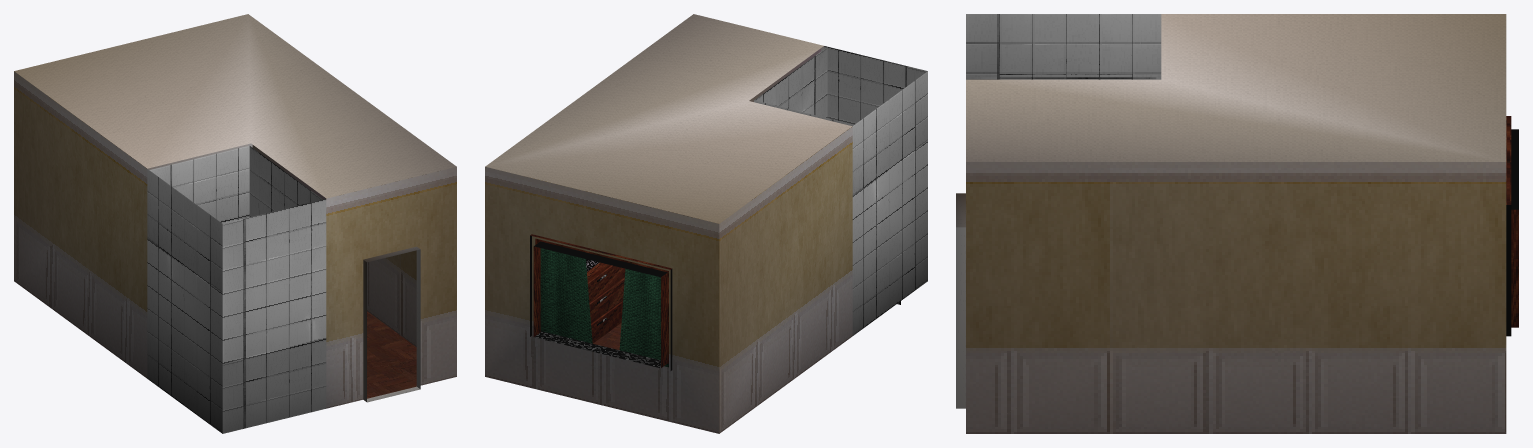
Rendered from basic.glb.
3 views of the same model, side by side, from view 1: azimuth 30°, elevation 25°; view 2: azimuth 150°, elevation 25°; view 3: azimuth 270°, elevation 25° (orthographic). The views are drawn at different scales.
Parts seen in each view (by area): view 1: door frame, bathroom; view 2: door frame, bathroom, curtains, window.003, drawer; view 3: door frame, bathroom, window.003.
Boxes of the visible parts, x1,y1,x2,y2 form: door frame: (14, 14, 456, 408); bathroom: (147, 145, 326, 433); door frame: (485, 14, 852, 433); bathroom: (754, 46, 927, 335); curtains: (540, 248, 668, 367); window.003: (530, 234, 672, 370); drawer: (587, 262, 625, 343); door frame: (956, 14, 1506, 433); bathroom: (966, 14, 1161, 79); window.003: (1506, 116, 1518, 336).
Size of the model in its own units: 3.5 by 3.06 by 5.62.
Materials: 9 (9 with a texture image).
